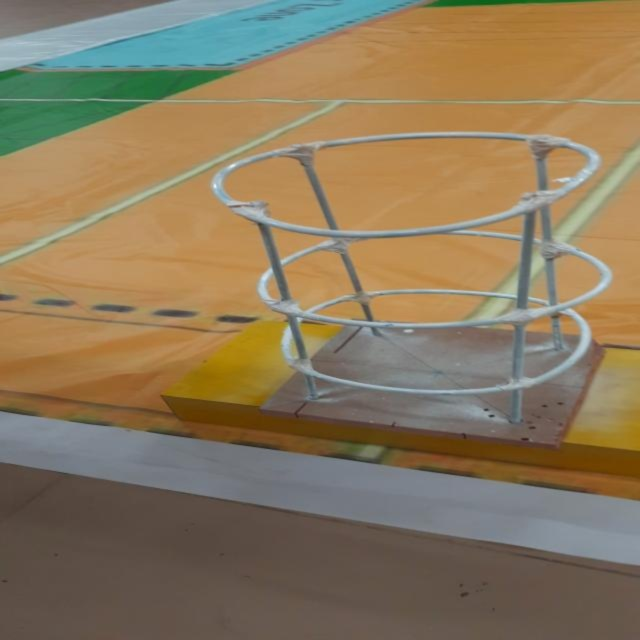silo: (190, 130, 629, 455)
